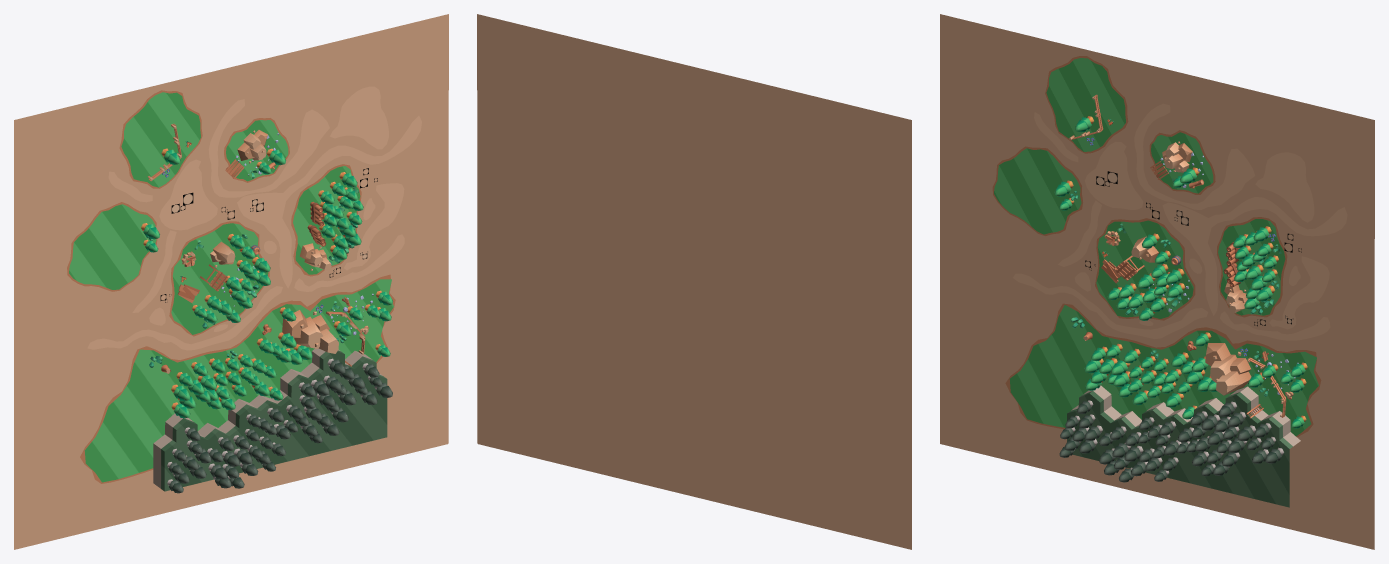
3 views of the same model, side by side, from view 1: azimuth 30°, elevation 25°; view 2: azimuth 150°, elevation 25°; view 3: azimuth 330°, elevation 25° (orthographic).
Parts seen in each view (by area): view 1: Ground, Green_ostrov, Line_center, Trees_group_1, Ser_ostrov, Trees_group_2, Det, Bordyr; view 2: Ground; view 3: Ground, Green_ostrov, Line_center, Trees_group_1, Ser_ostrov, Trees_group_2, Det, Bordyr.
Part boxes in pixels (x1=…): Ground: x1=14, y1=14, x2=448, y2=549; Green_ostrov: x1=69, y1=92, x2=393, y2=482; Line_center: x1=87, y1=86, x2=421, y2=350; Trees_group_1: x1=141, y1=148, x2=392, y2=418; Ser_ostrov: x1=153, y1=348, x2=387, y2=491; Trees_group_2: x1=167, y1=358, x2=392, y2=493; Det: x1=146, y1=123, x2=373, y2=373; Bordyr: x1=67, y1=90, x2=395, y2=483; Ground: x1=477, y1=14, x2=911, y2=549; Ground: x1=940, y1=14, x2=1374, y2=549; Green_ostrov: x1=994, y1=58, x2=1318, y2=436; Line_center: x1=1013, y1=103, x2=1347, y2=340; Trees_group_1: x1=1054, y1=116, x2=1307, y2=428; Ser_ostrov: x1=1067, y1=385, x2=1300, y2=507; Trees_group_2: x1=1059, y1=400, x2=1283, y2=482; Det: x1=1069, y1=94, x2=1298, y2=418; Bordyr: x1=992, y1=56, x2=1321, y2=437.
Size of the model in its own units: 43.26 by 40.88 by 4.58.
Materials: 8 (8 with a texture image).
